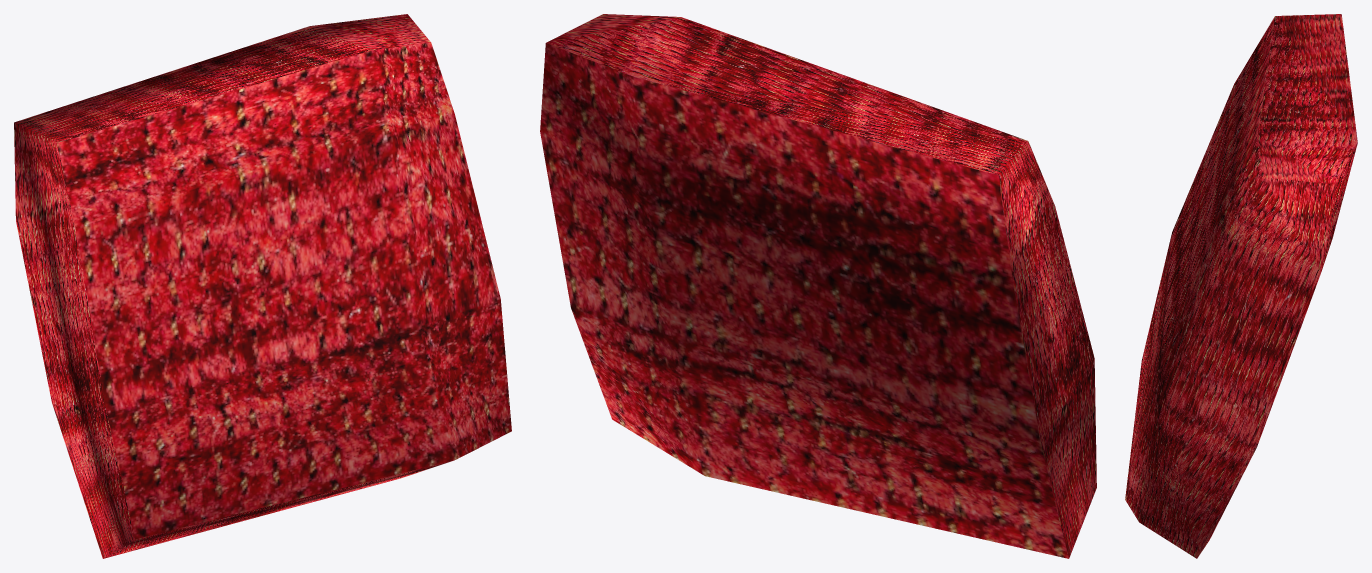
File: Obj_vid_09_coixi_3.fbx
3 renders of one model, left to right at view 1: azimuth 30°, elevation 25°; view 2: azimuth 150°, elevation 25°; view 3: azimuth 270°, elevation 25°, orthographic. The views are drawn at different scales.
Parts seen in each view (by area): view 1: Obj_vid_09_coixi_3; view 2: Obj_vid_09_coixi_3; view 3: Obj_vid_09_coixi_3.
Boxes of the visible parts, x1,y1,x2,y2 form: Obj_vid_09_coixi_3: (14,14,511,558); Obj_vid_09_coixi_3: (540,14,1096,558); Obj_vid_09_coixi_3: (1125,14,1357,558).
Bounding box in the file's own units: 0.436 × 0.4152 × 0.2177.
